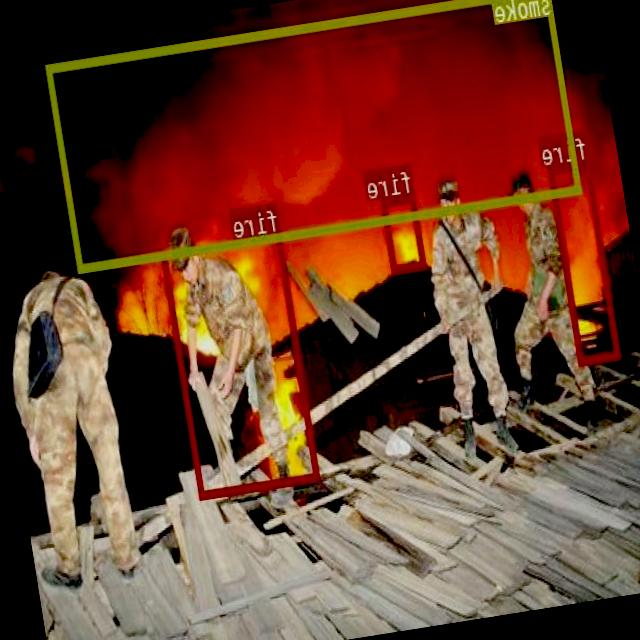fire: (162, 231, 320, 498), (548, 160, 622, 363), (381, 192, 429, 274)
smoke: (47, 0, 583, 271)
